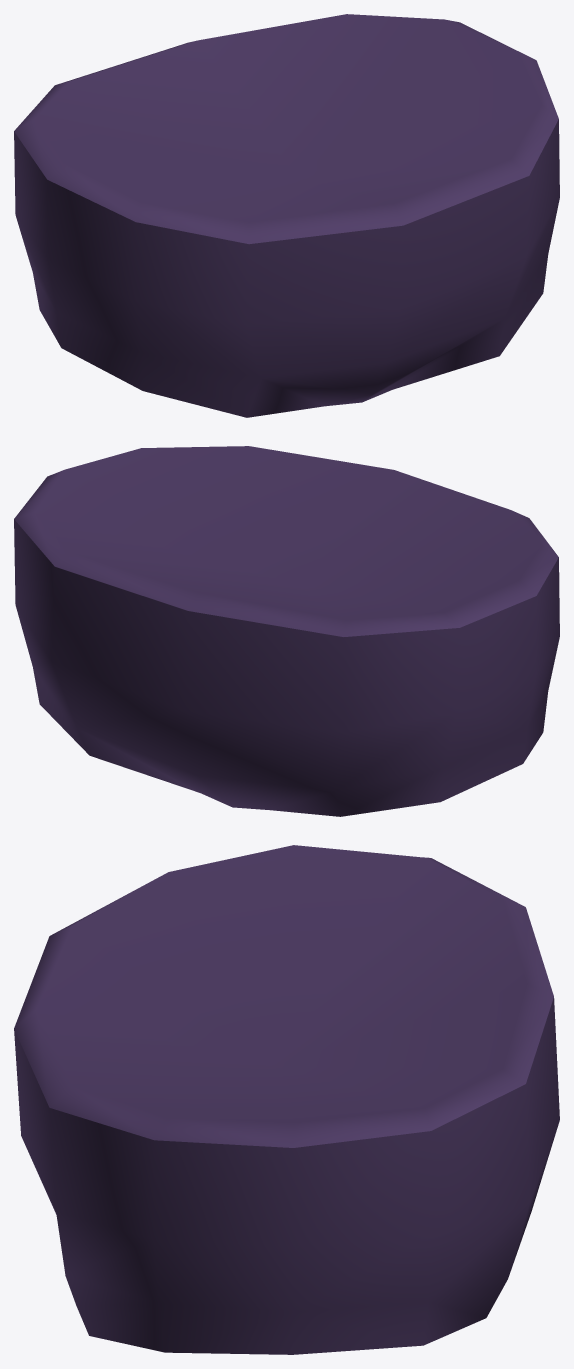
File: Bottom_66.fbx
3 renders of one model, top to bottom at view 1: azimuth 30°, elevation 25°; view 2: azimuth 150°, elevation 25°; view 3: azimuth 270°, elevation 25°, orthographic. The views are drawn at different scales.
Visible parts, largest first — view 1: Bottom_66; view 2: Bottom_66; view 3: Bottom_66.
Part boxes in pixels (x1=…): Bottom_66: x1=14, y1=14, x2=559, y2=417; Bottom_66: x1=14, y1=446, x2=559, y2=816; Bottom_66: x1=14, y1=845, x2=559, y2=1354.
Size of the model in its own units: 38.53 by 18.35 by 29.68.
